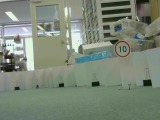speed_10: (113, 39, 132, 59)
